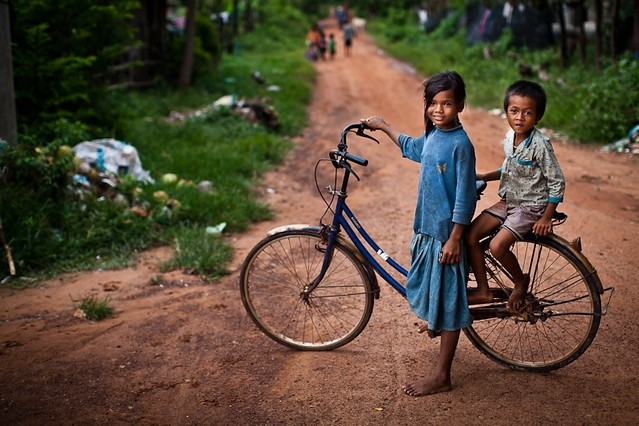face_no_mask: (502, 78, 546, 134), (423, 70, 466, 126)
